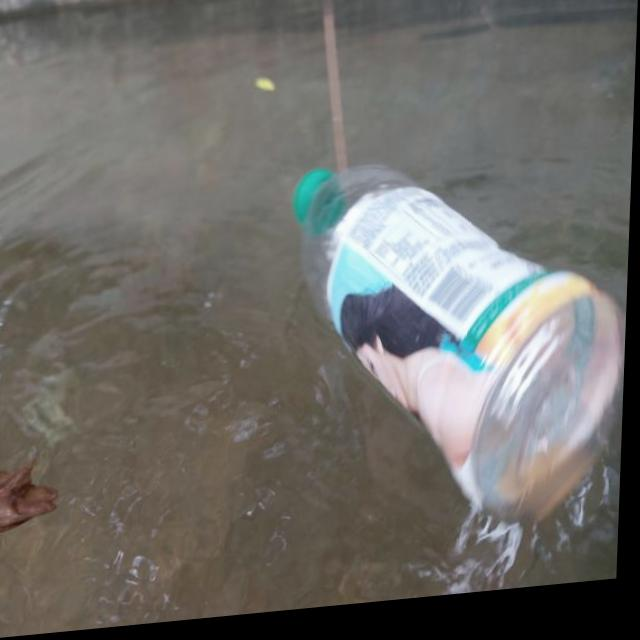leaf: (0, 431, 84, 564)
waterbottle: (267, 129, 635, 564)
